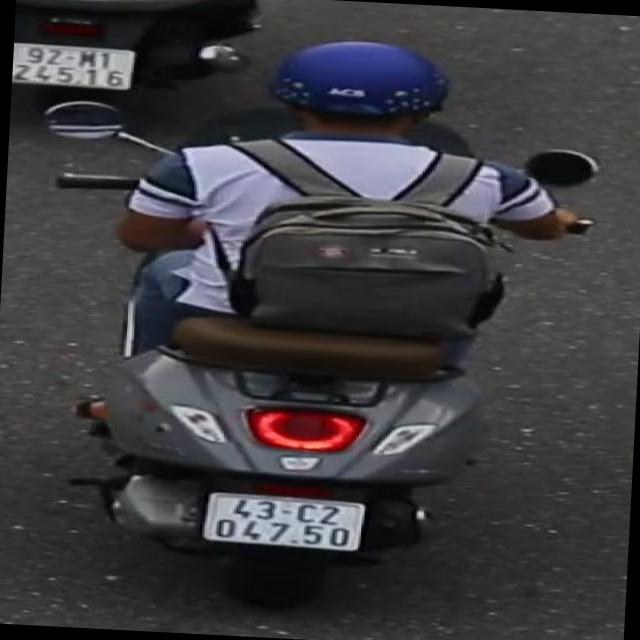LP: (196, 490, 372, 560)
helmet: (266, 28, 459, 154)
